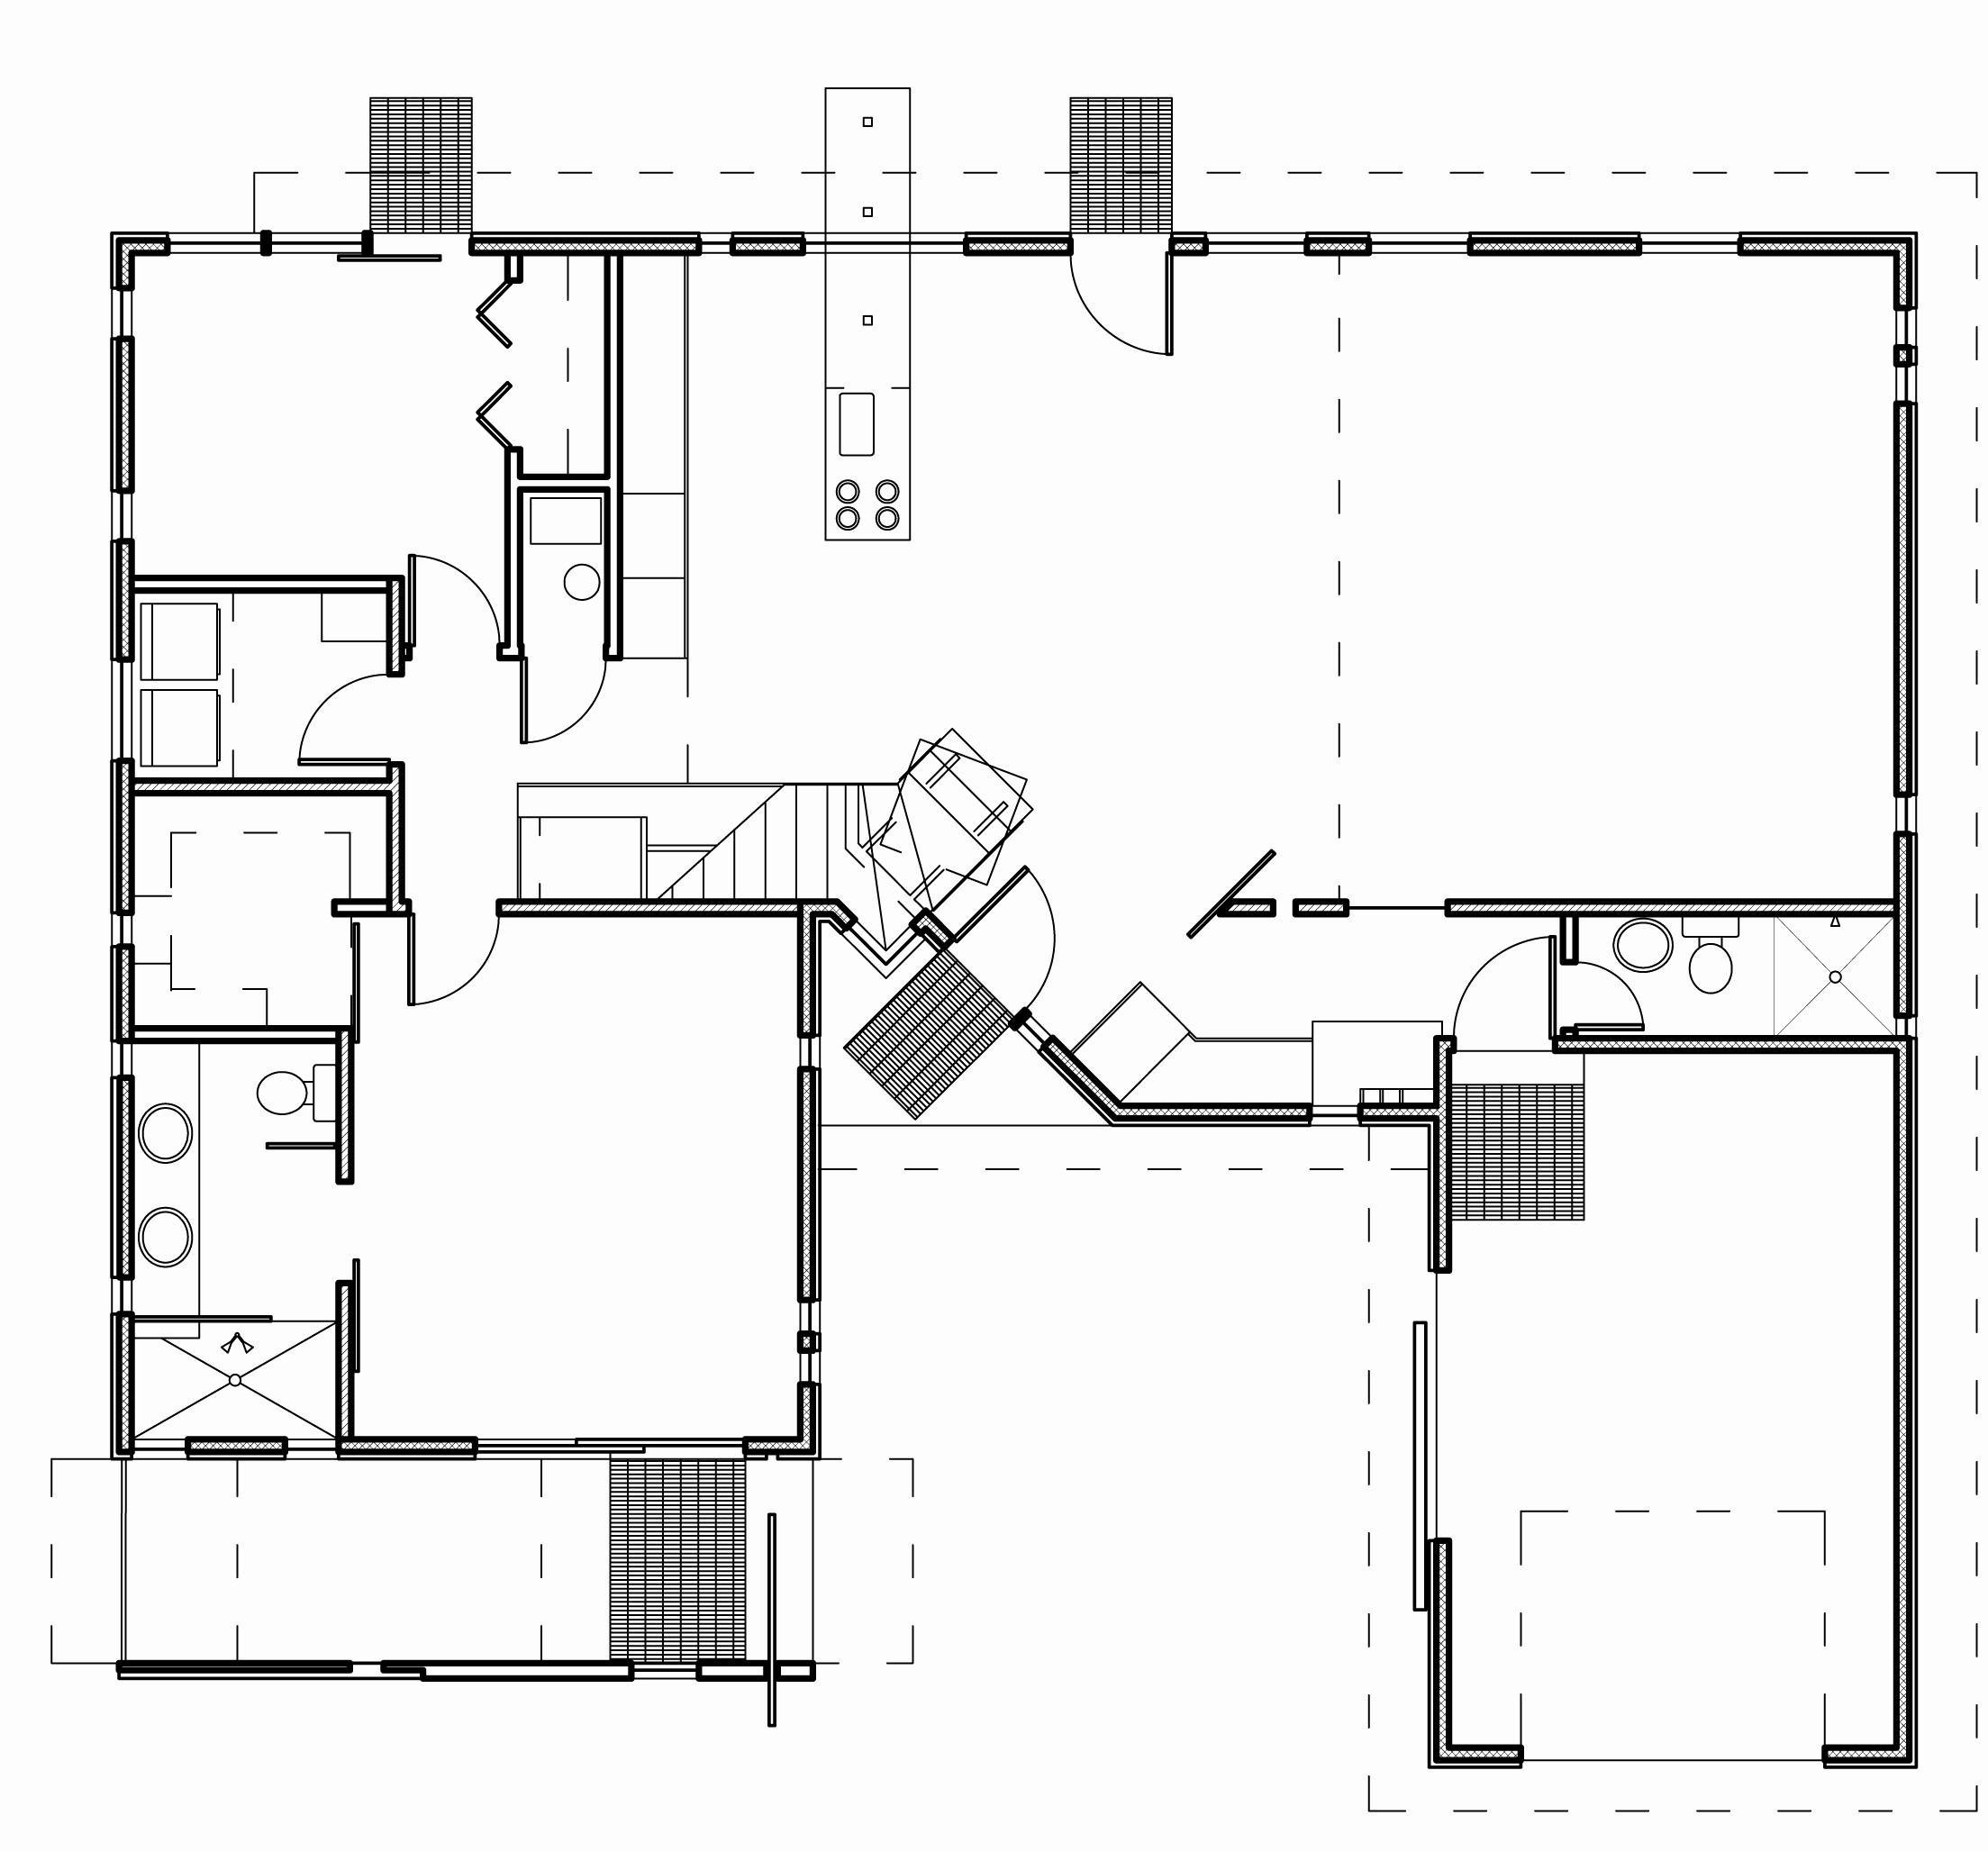door: (1057, 256, 1182, 367), (968, 853, 1071, 978), (1464, 924, 1560, 1030), (397, 923, 505, 1017), (514, 661, 621, 755), (270, 677, 378, 769), (406, 547, 496, 639), (1584, 959, 1656, 1036)
window: (794, 219, 971, 265), (158, 214, 268, 268), (1360, 221, 1478, 270), (1198, 223, 1314, 268), (101, 653, 141, 766), (1635, 228, 1746, 263), (1297, 1095, 1370, 1135), (691, 219, 740, 266), (280, 1431, 343, 1466), (108, 278, 141, 343), (108, 482, 139, 545), (103, 1037, 139, 1084), (106, 1271, 141, 1318), (790, 1030, 825, 1072), (106, 907, 139, 949)
